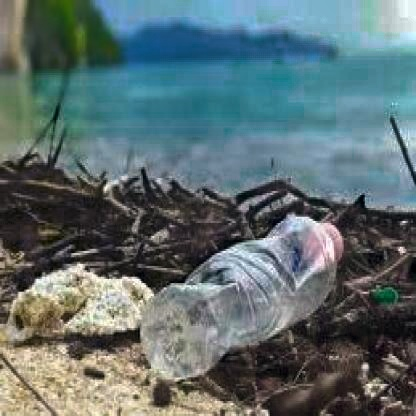pbottle: (131, 208, 348, 384)
